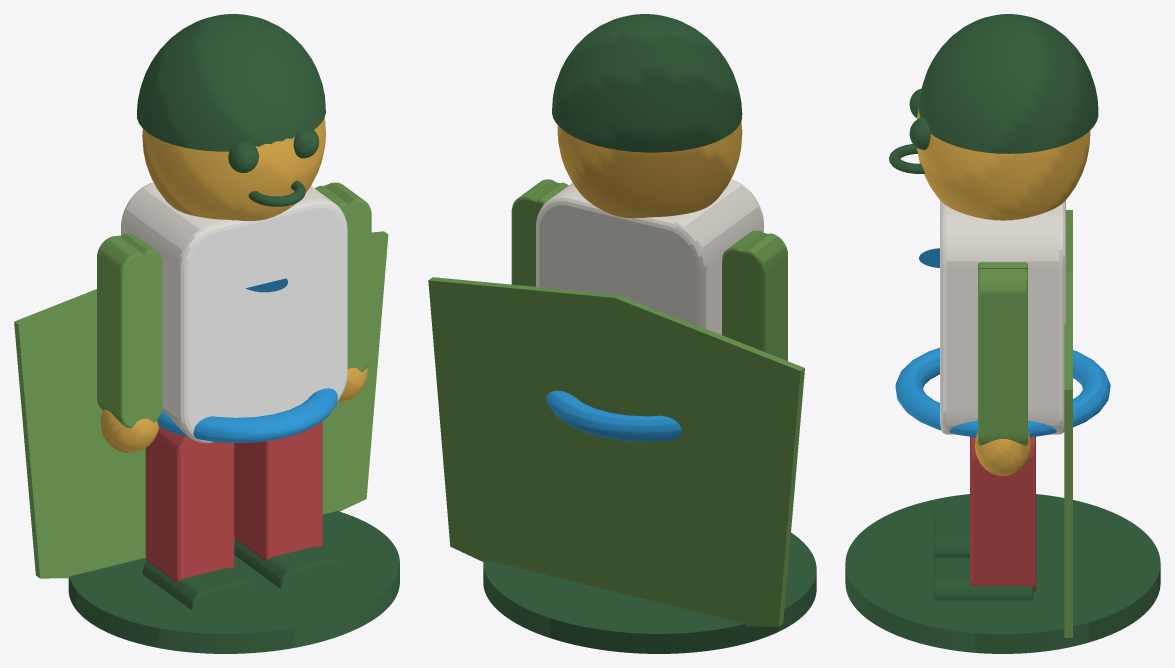
File: 0372_欧洲文明图鉴_骑士.glb
3 views of the same model, side by side, from view 1: azimuth 30°, elevation 25°; view 2: azimuth 150°, elevation 25°; view 3: azimuth 270°, elevation 25° (orthographic).
Parts seen in each view (by area): view 1: card_0372; view 2: card_0372; view 3: card_0372.
Part boxes in pixels (x1=…): card_0372: x1=14, y1=14, x2=399, y2=653; card_0372: x1=428, y1=14, x2=816, y2=653; card_0372: x1=845, y1=14, x2=1160, y2=653.
Bounding box in the file's own units: 0.6739 × 1 × 0.4985.
